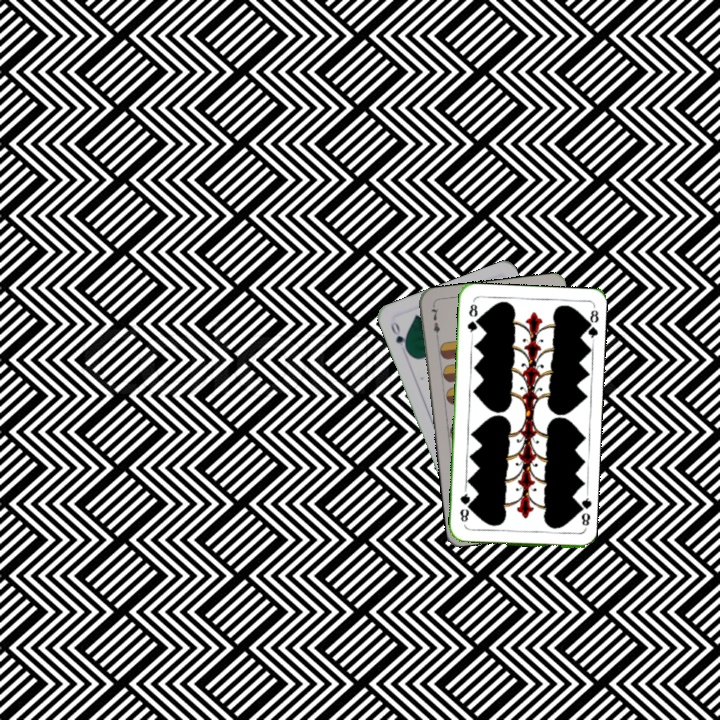E7: (427, 302, 442, 343)
G8: (573, 492, 593, 532), (463, 300, 480, 339)
GO: (387, 318, 411, 355)
